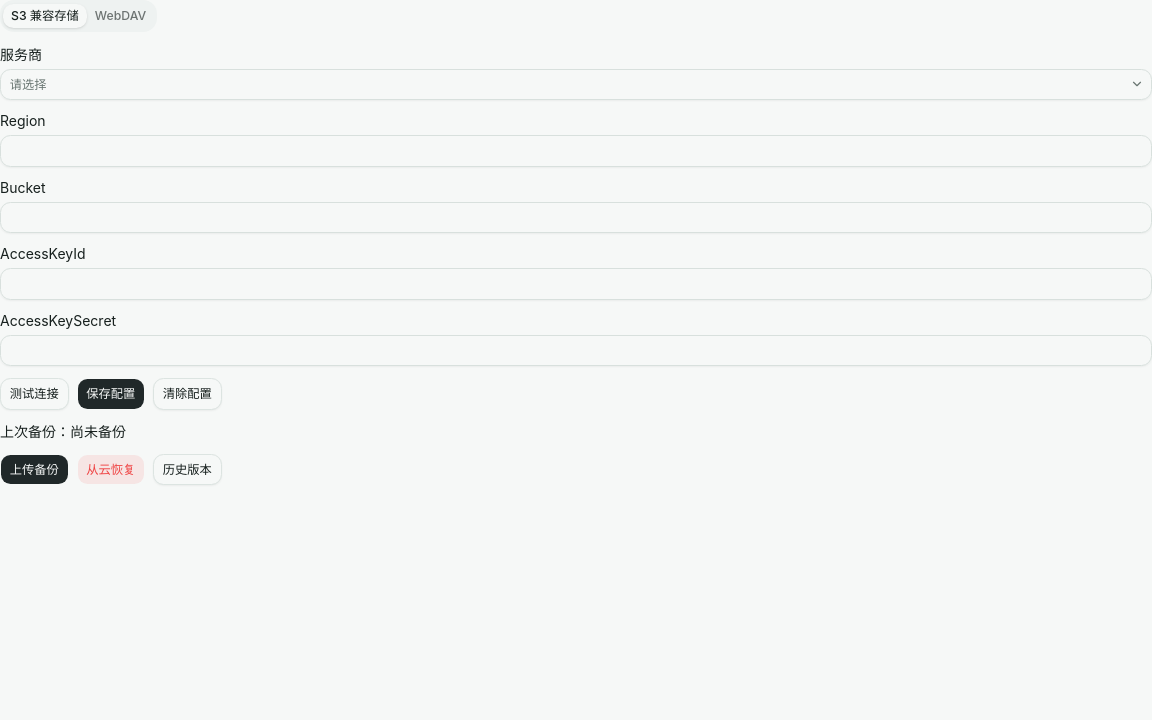
Test: CloudBackupSection › v5 云端恢复预览明确警告确认后清空本机全部待办
What coordinates should you click on to do the following:
click the button "从云恢复"
I would click on:
 (111, 469)
Its box is top-left (76, 454), bottom-right (145, 485).
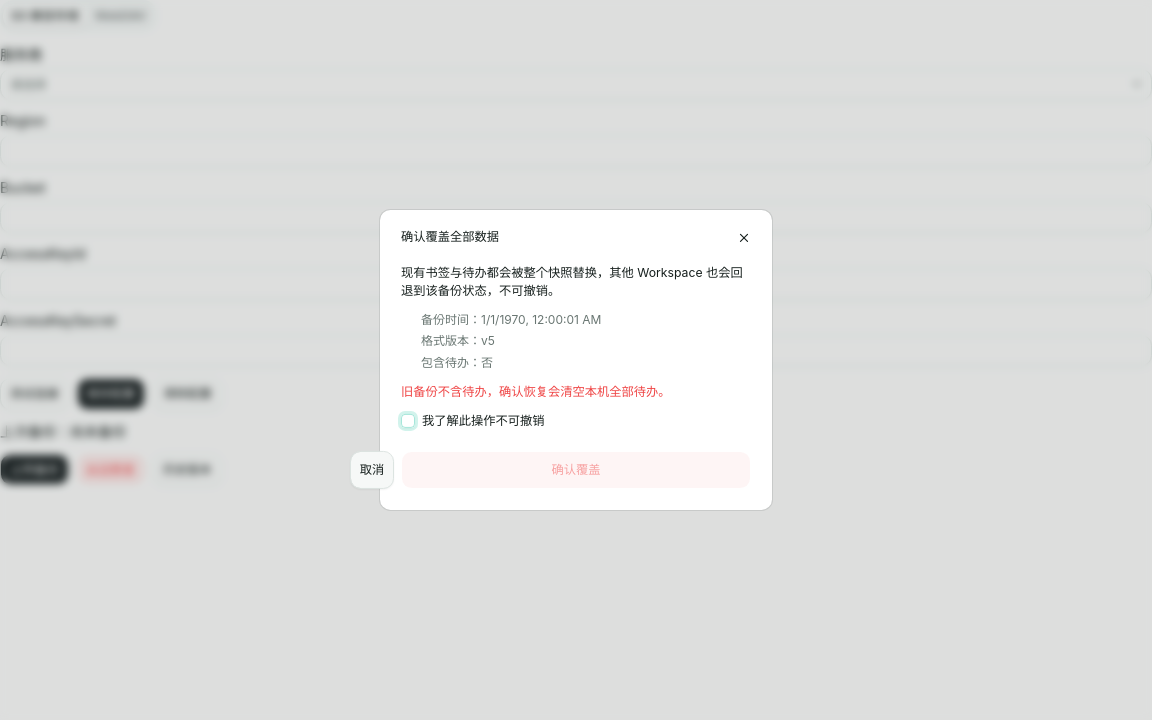
Expected: the text "旧备份不含待办，确认恢复会清空本机全部待办。" is shown, top-left (401, 384), bottom-right (670, 399)
